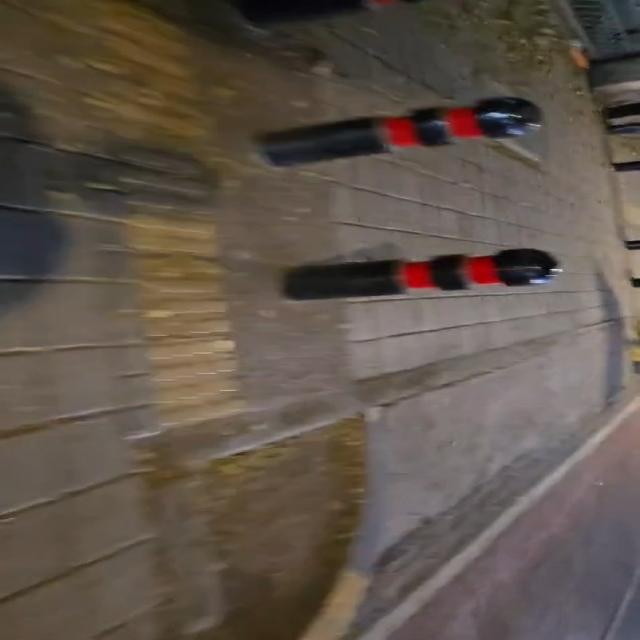obstacle: (258, 97, 540, 166), (284, 249, 561, 300), (236, 0, 420, 26), (612, 161, 639, 172), (624, 240, 639, 249), (630, 278, 639, 288)
pothole: (176, 400, 368, 639)
